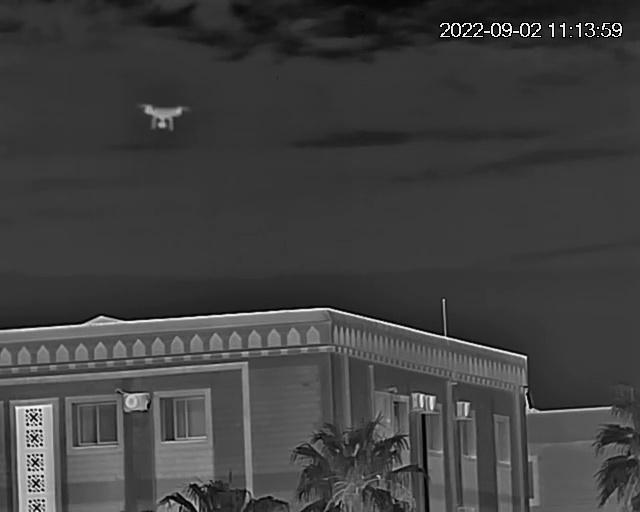DJI-Phantom: (138, 98, 191, 133)
